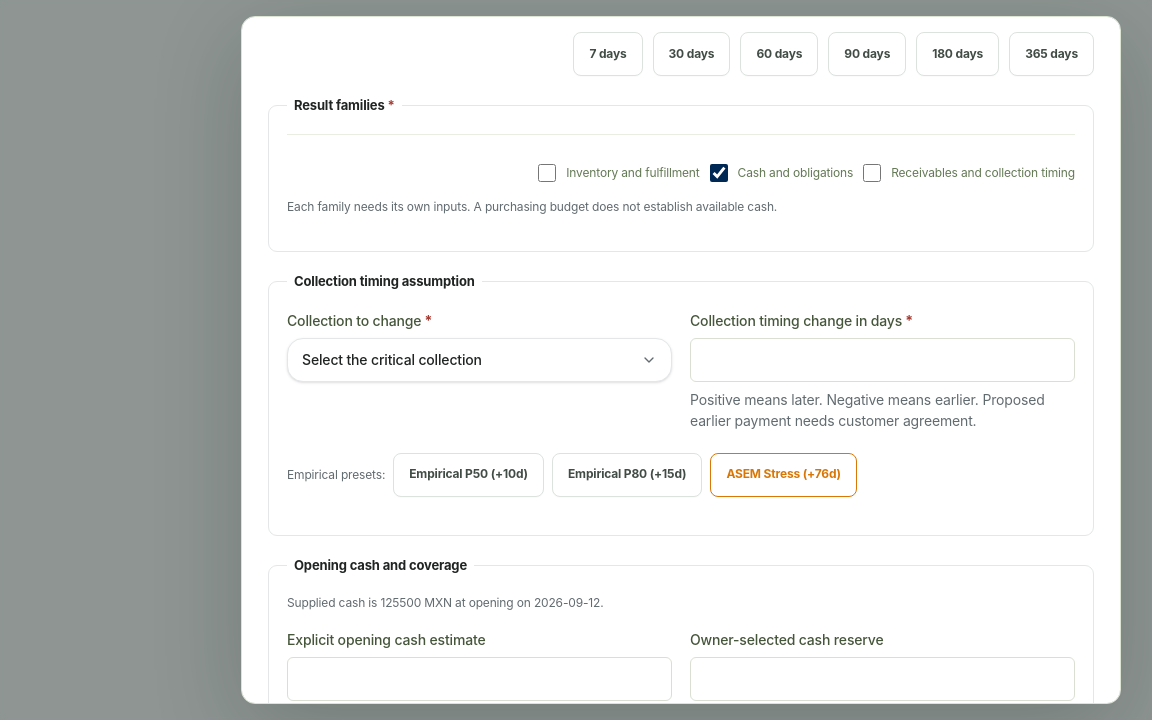
Test: a cash-only critical collection preserves explicit coverage and inclusive dates without inventory inputs
(page scrolled)
Replace the text in the dropdown named "Collection to change" with "inv-1024": (480, 360) [287,338,672,382]
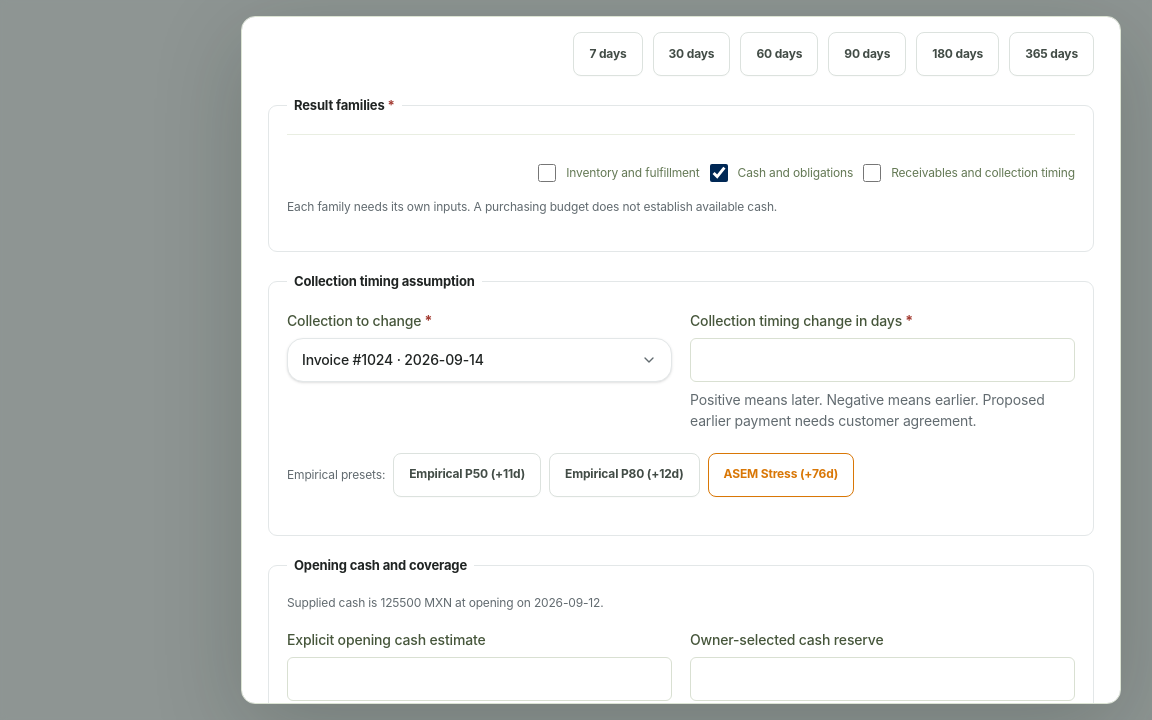
In the number field labelled "Collection timing change in days": (882, 360) [690,338,1075,382], type "7"
(page scrolled)
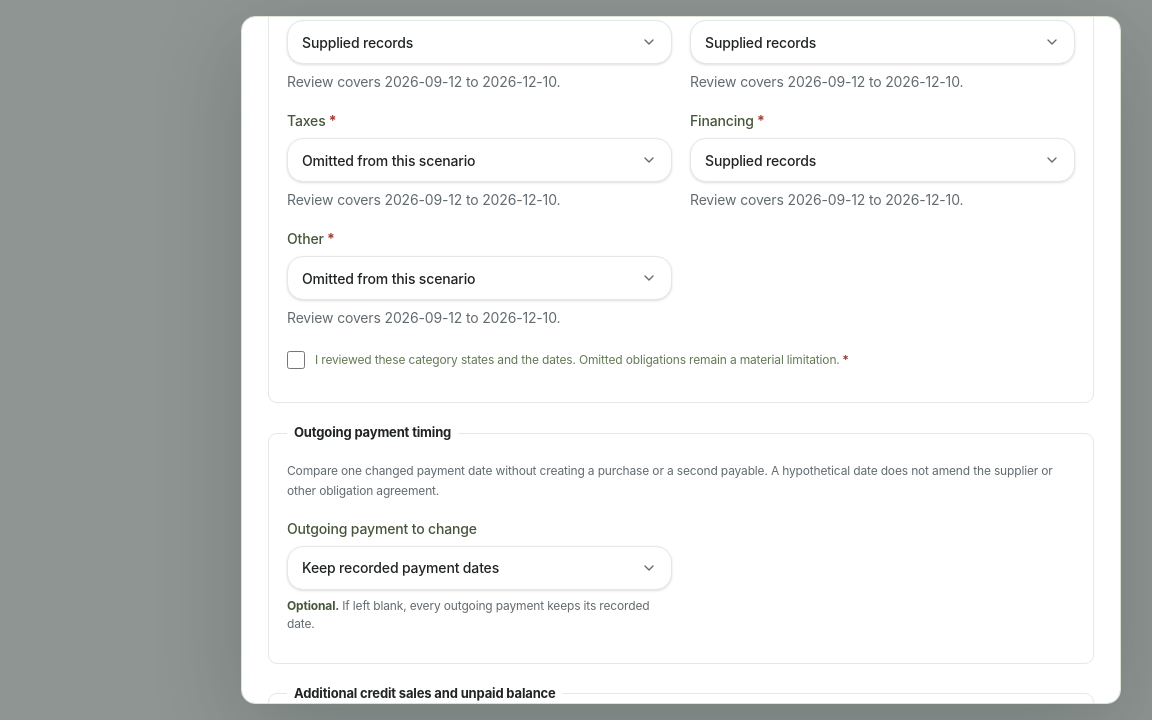
Click the checkbox labelled "I reviewed these category states": click(296, 360) [287,351,305,369]
(page scrolled)
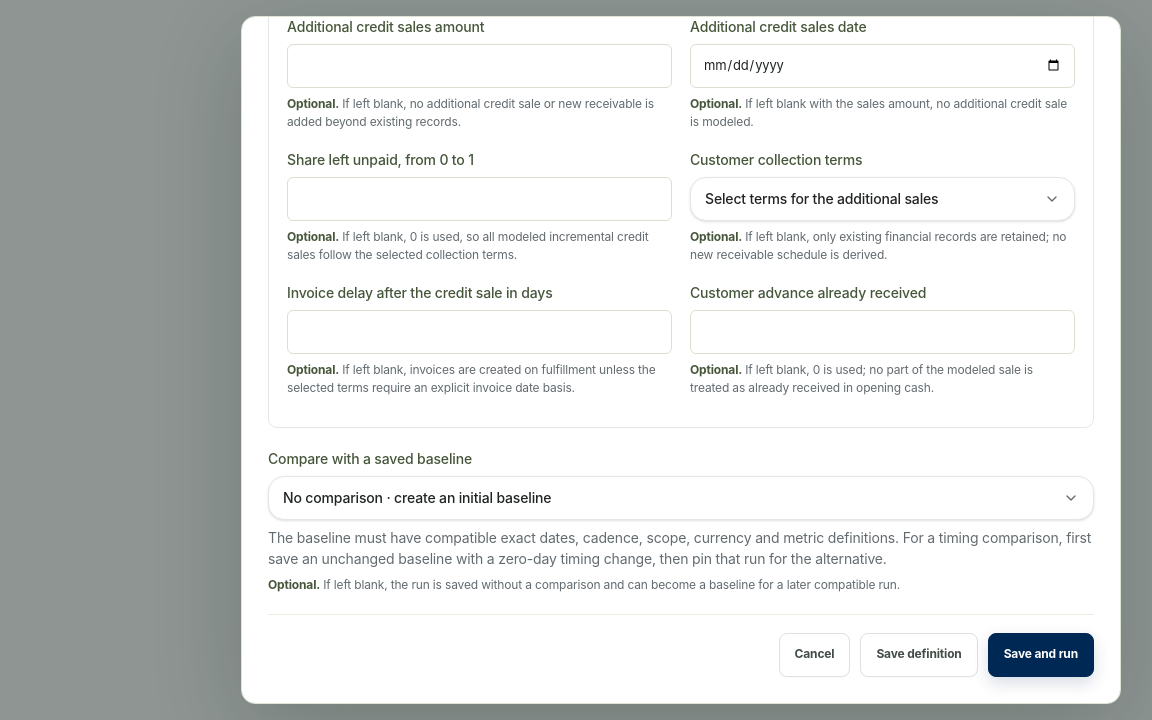
Click the button "Save and run": click(1041, 655) [988,633,1094,677]
(page scrolled)
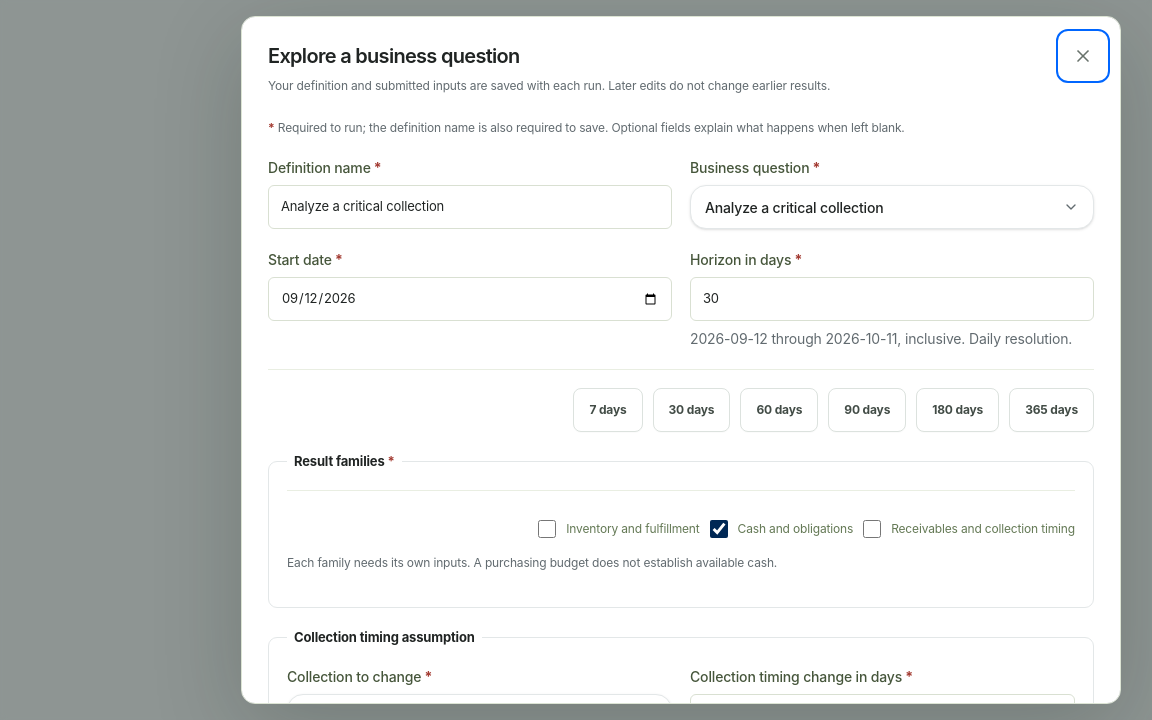
Result: the text "2026-09-12 through 2026-10-11, inclusive. Daily resolution." is shown at [690,328,1094,349]
